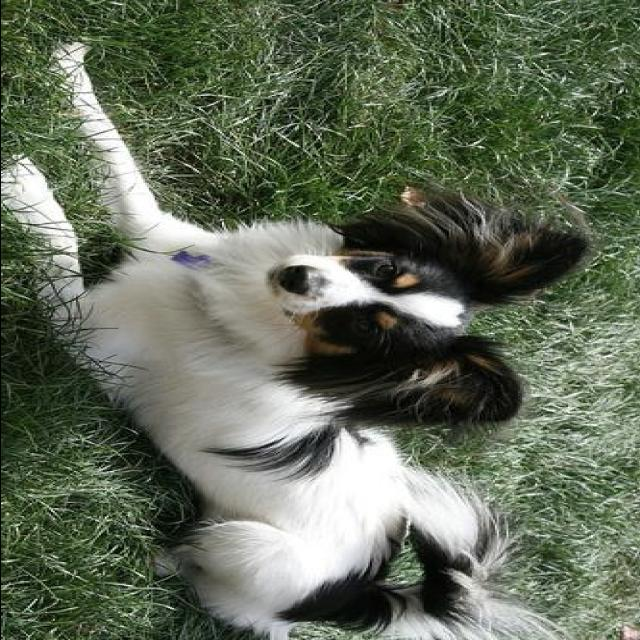papillon: (2, 40, 592, 640)
